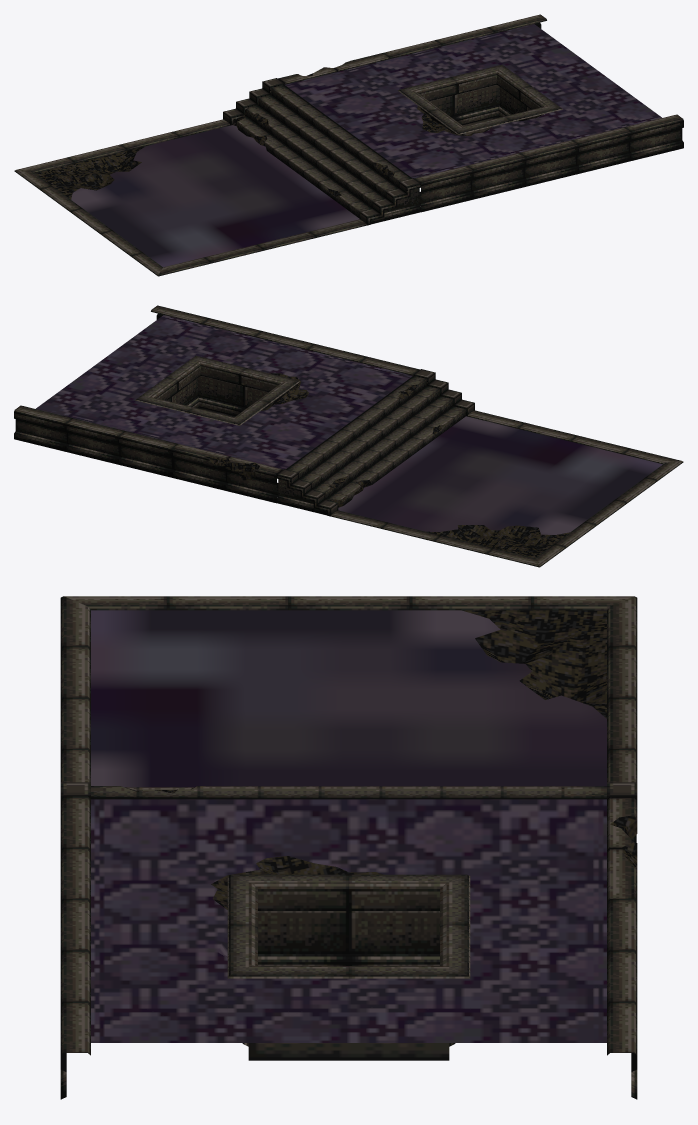
The model's file is EnvMdrMD_Atl_A_Altar_Broken.FBX.
3 renders of one model, top to bottom at view 1: azimuth 30°, elevation 25°; view 2: azimuth 150°, elevation 25°; view 3: azimuth 270°, elevation 25°, orthographic. The views are drawn at different scales.
Parts seen in each view (by area): view 1: EnvMdrMD_Atl_A_Altar_Broken; view 2: EnvMdrMD_Atl_A_Altar_Broken; view 3: EnvMdrMD_Atl_A_Altar_Broken.
Boxes of the visible parts, box(x1,y1,x2,y2) form: EnvMdrMD_Atl_A_Altar_Broken: box(14, 14, 683, 276); EnvMdrMD_Atl_A_Altar_Broken: box(14, 305, 683, 567); EnvMdrMD_Atl_A_Altar_Broken: box(60, 596, 637, 1099).
Bounding box in the file's own units: 2000 × 170 × 950.
